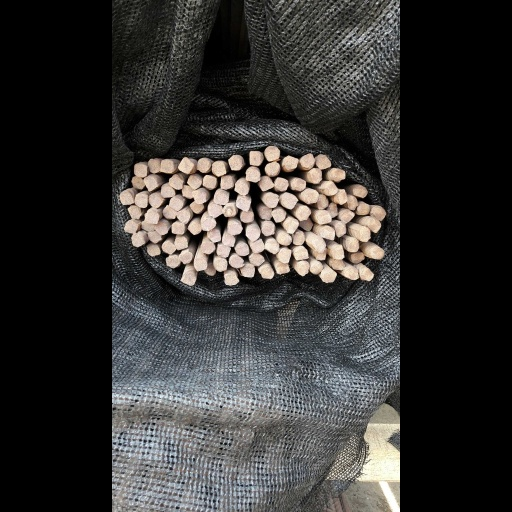dipstick: (298, 192, 330, 209), (449, 216, 478, 233), (118, 157, 144, 175), (369, 266, 398, 282), (236, 166, 264, 182), (264, 193, 296, 207), (206, 154, 232, 171), (257, 176, 288, 190), (243, 150, 268, 167), (238, 224, 263, 241), (272, 145, 297, 162), (302, 154, 330, 169), (217, 180, 243, 196), (222, 196, 248, 212), (367, 225, 393, 241), (272, 239, 296, 256), (99, 196, 128, 210), (27, 205, 56, 219), (204, 220, 233, 234), (361, 154, 390, 168), (425, 184, 454, 198), (13, 190, 40, 205), (177, 160, 202, 176), (351, 167, 376, 183), (411, 194, 436, 210), (461, 204, 486, 220), (326, 205, 354, 219), (404, 209, 432, 223), (190, 175, 216, 190), (414, 237, 440, 252), (376, 180, 402, 195), (433, 200, 459, 215), (151, 158, 175, 174), (62, 230, 89, 244), (208, 256, 235, 270), (322, 246, 349, 260), (354, 237, 381, 251), (412, 266, 439, 280), (259, 206, 286, 220), (454, 247, 483, 260), (160, 174, 185, 189), (63, 193, 88, 208), (89, 205, 114, 220), (143, 189, 168, 204), (264, 222, 289, 237), (393, 222, 418, 237), (308, 217, 331, 233), (328, 260, 351, 276), (37, 163, 63, 177), (85, 185, 113, 198), (133, 175, 159, 189), (57, 210, 85, 223), (33, 233, 59, 247), (60, 243, 86, 257), (88, 241, 114, 255), (94, 254, 120, 268), (182, 189, 208, 203), (271, 162, 297, 176), (318, 177, 344, 191), (335, 154, 361, 168), (40, 193, 64, 208), (76, 221, 100, 236), (144, 257, 168, 272), (170, 203, 194, 218), (360, 211, 390, 223), (117, 185, 144, 198), (133, 222, 160, 235), (389, 168, 416, 181), (56, 176, 81, 190), (332, 217, 357, 231), (341, 190, 366, 204), (102, 175, 125, 190), (248, 239, 271, 254), (296, 248, 319, 263), (285, 208, 308, 223), (21, 220, 47, 233), (121, 273, 147, 286), (219, 243, 245, 256), (183, 257, 207, 271), (241, 253, 269, 265), (420, 251, 448, 263), (289, 177, 313, 191), (87, 159, 109, 174), (353, 261, 375, 276), (397, 190, 419, 205), (32, 176, 57, 189), (110, 236, 135, 249), (228, 265, 253, 278), (156, 218, 183, 230), (115, 209, 138, 223), (195, 233, 218, 247), (296, 232, 319, 246), (138, 201, 164, 213), (169, 229, 193, 242), (264, 267, 288, 280), (64, 159, 86, 173), (119, 250, 141, 264), (186, 243, 208, 257), (104, 222, 129, 234), (290, 262, 315, 274), (323, 231, 343, 246), (389, 259, 414, 271), (364, 195, 384, 210), (199, 273, 226, 284), (443, 267, 464, 281), (228, 211, 252, 223), (51, 220, 77, 231), (162, 263, 184, 276), (360, 246, 380, 260), (196, 204, 219, 216), (384, 202, 401, 218), (392, 245, 411, 259), (440, 226, 456, 242), (158, 242, 181, 252)
